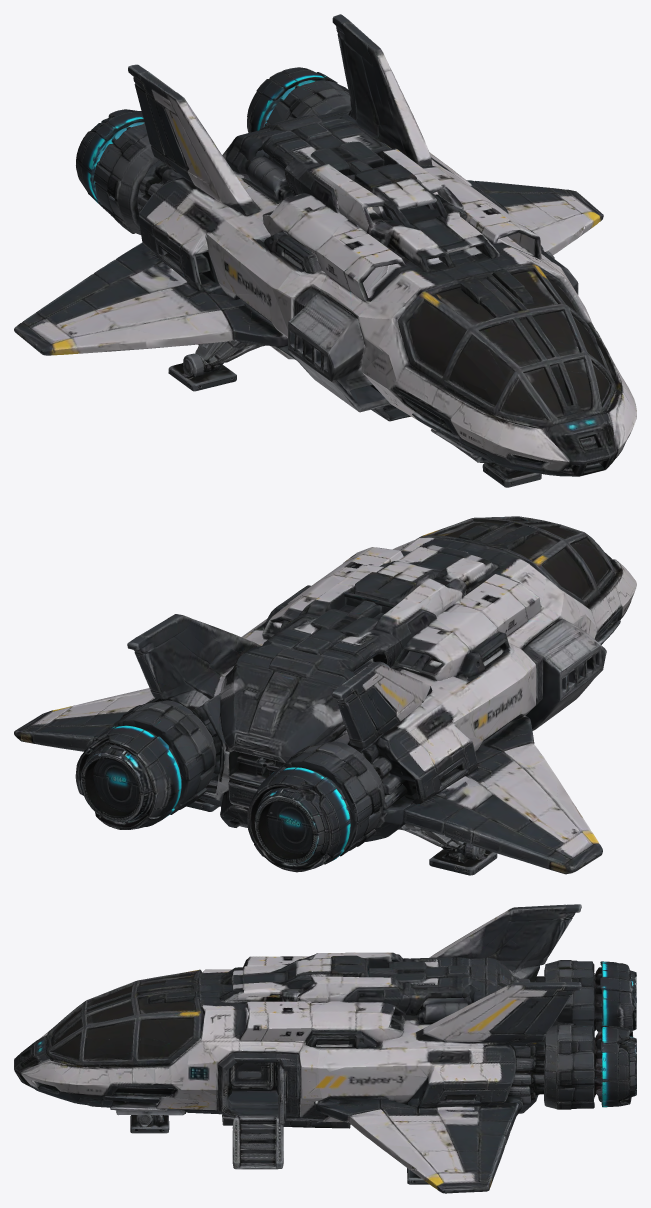
Rendered from explorer-meshy-a.glb.
3 renders of one model, top to bottom at view 1: azimuth 30°, elevation 25°; view 2: azimuth 150°, elevation 25°; view 3: azimuth 270°, elevation 25°, orthographic. The views are drawn at different scales.
Visible parts, largest first — view 1: Mesh_0; view 2: Mesh_0; view 3: Mesh_0.
Part boxes in pixels (left/top/right/bottom): Mesh_0: left=14, top=14, right=636, bottom=487; Mesh_0: left=14, top=516, right=636, bottom=875; Mesh_0: left=14, top=904, right=636, bottom=1193.
Bounding box in the file's own units: 14.07 × 5.59 × 17.3.
1 material, 1 textured.
